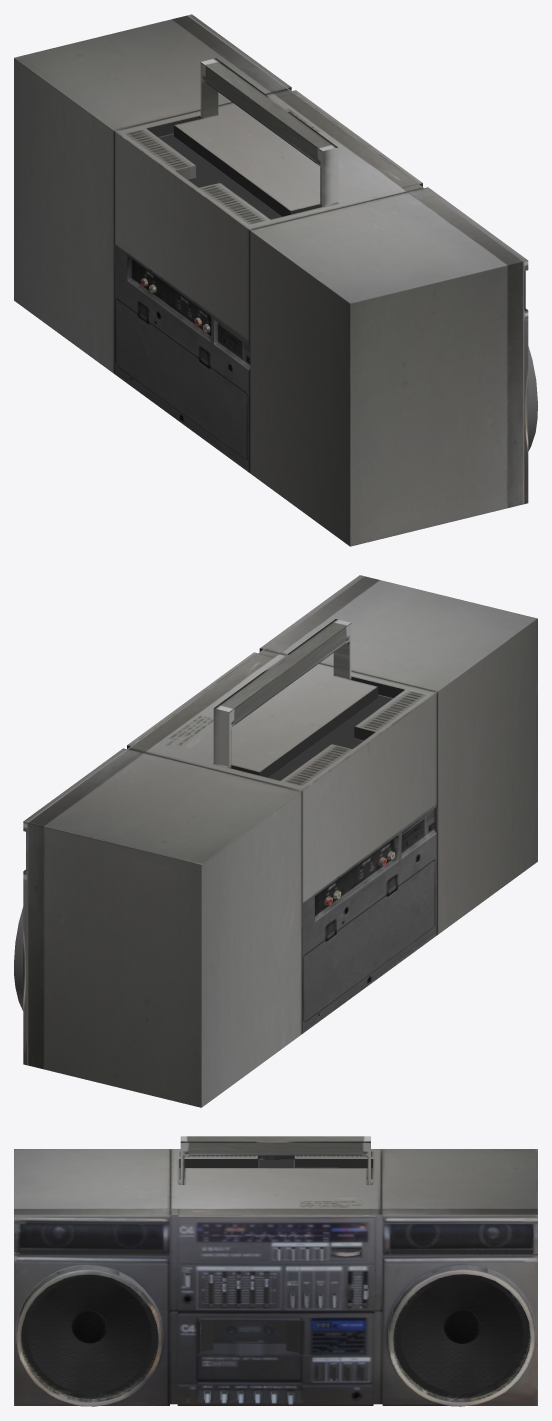
Rendered from boombox.glb.
3 renders of one model, top to bottom at view 1: azimuth 30°, elevation 25°; view 2: azimuth 150°, elevation 25°; view 3: azimuth 270°, elevation 25°, orthographic. The views are drawn at different scales.
Visible parts, largest first — view 1: Plane.002_0; view 2: Plane.002_0; view 3: Plane.002_0.
Boxes of the visible parts, box(x1,y1,x2,y2) form: Plane.002_0: box(14, 14, 537, 546); Plane.002_0: box(14, 575, 537, 1107); Plane.002_0: box(14, 1136, 537, 1406).
Size of the model in its own units: 1.48 by 2.22 by 4.55.
Materials: 1 (1 with a texture image).
